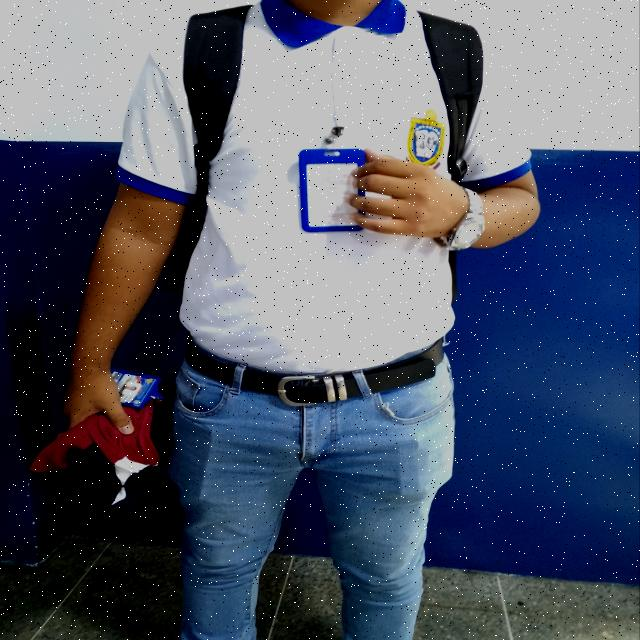carnet: (306, 163, 362, 227)
uniforme_superior: (114, 0, 534, 375)
